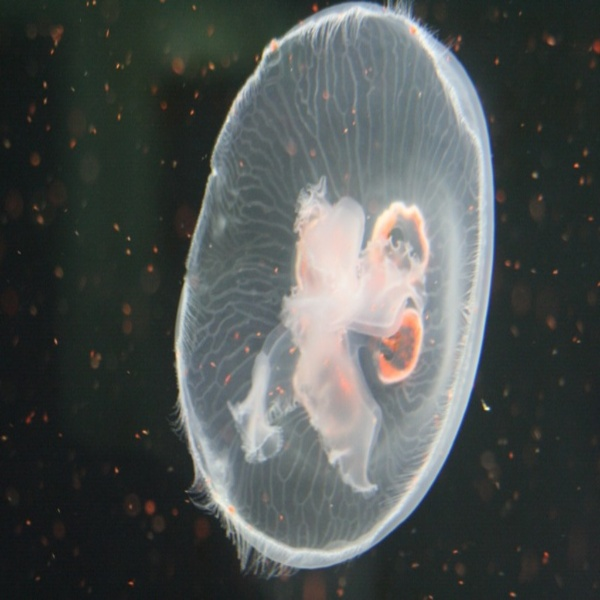Jellyfish: (162, 0, 496, 582)
